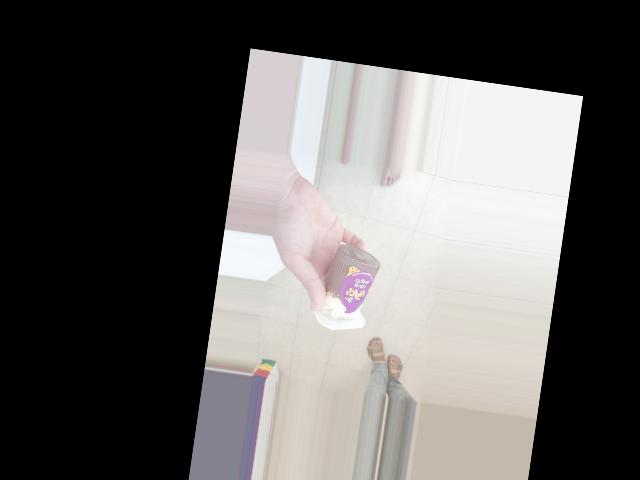milky: (308, 243, 374, 328)
